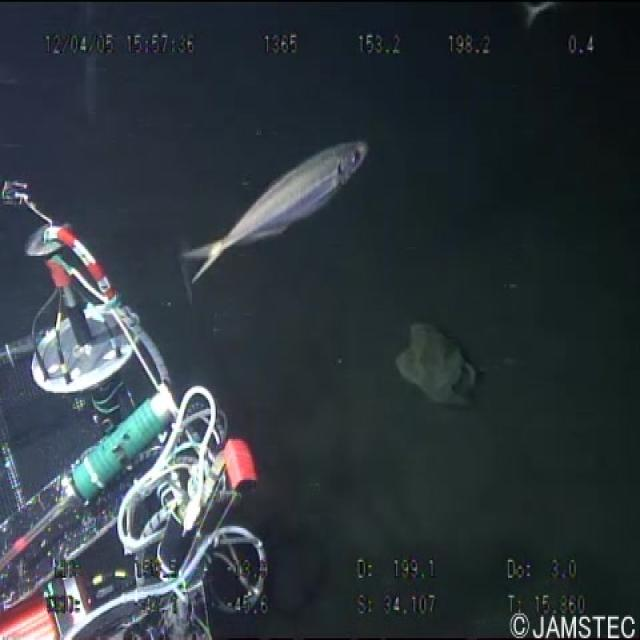plastic: (385, 315, 484, 416)
